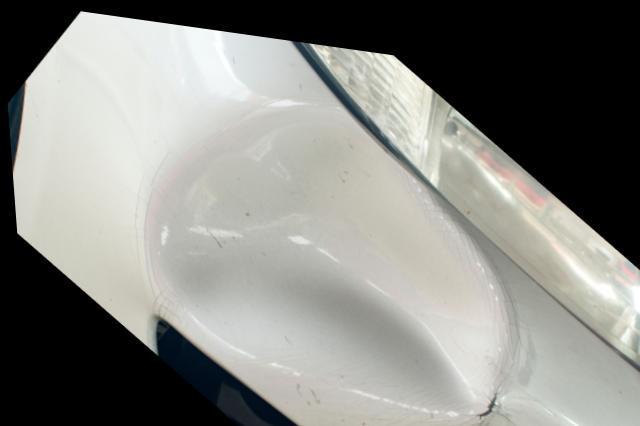dent: (143, 93, 516, 406)
